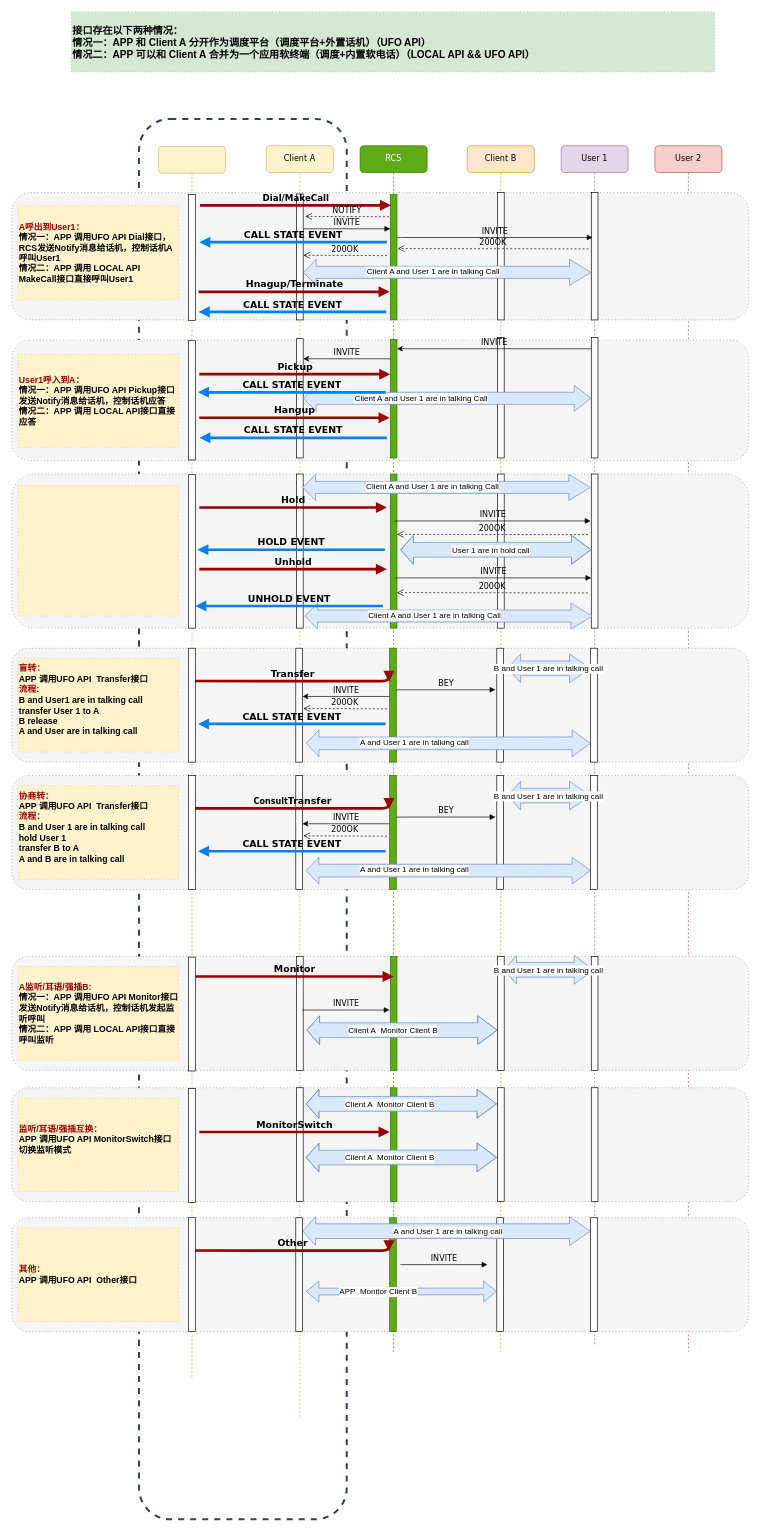
Image size: 760x1532. Some labels were removed from this diagram. The shapes that lost their labels are listed below. From the top down, each one's centre as x and y in pixels, then its label:
the point at 98,550: 保持/取消保持: APP 调用UFO API Hold接口
the point at 191,762: API APP
